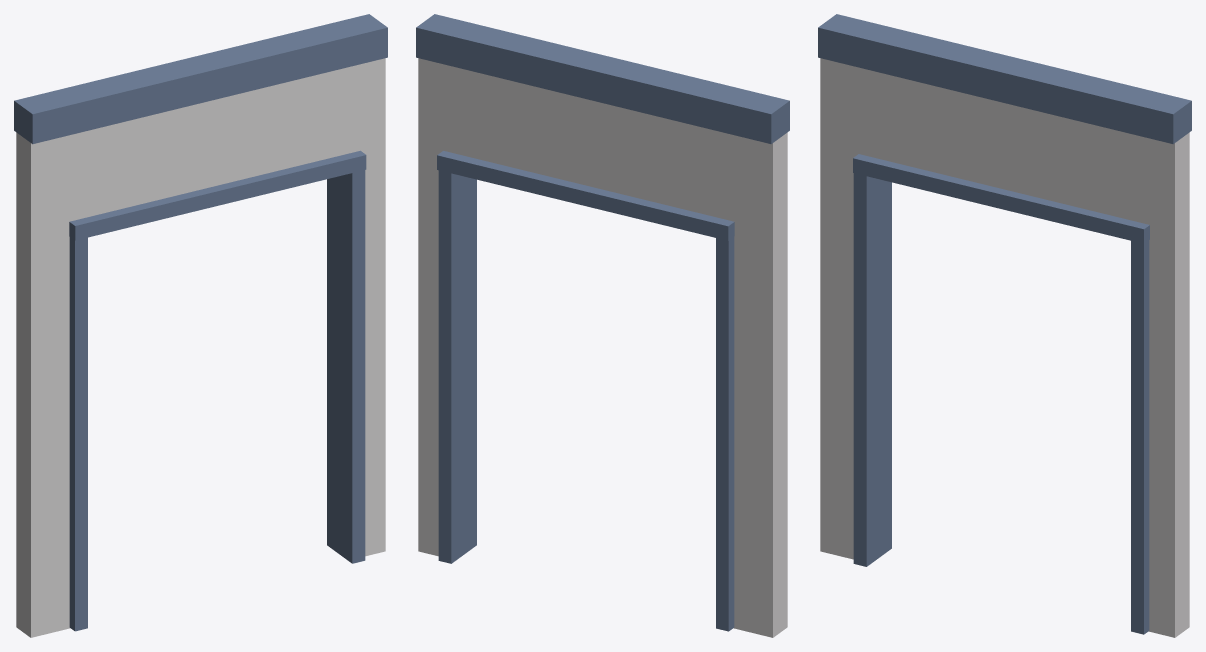
File: 01_wall_door_2_without.glb
The picture shows the model from 3 angles, left to right: view 1: azimuth 30°, elevation 25°; view 2: azimuth 150°, elevation 25°; view 3: azimuth 330°, elevation 25°; orthographic projection.
Parts seen in each view (by area): view 1: Wall_Left; view 2: Wall_Left; view 3: Wall_Left.
Boxes of the visible parts, left/top/right/bottom form: Wall_Left: left=14, top=14, right=387, bottom=637; Wall_Left: left=416, top=14, right=789, bottom=637; Wall_Left: left=818, top=14, right=1191, bottom=637.
Bounding box in the file's own units: 2.11 × 2.99 × 0.276.
